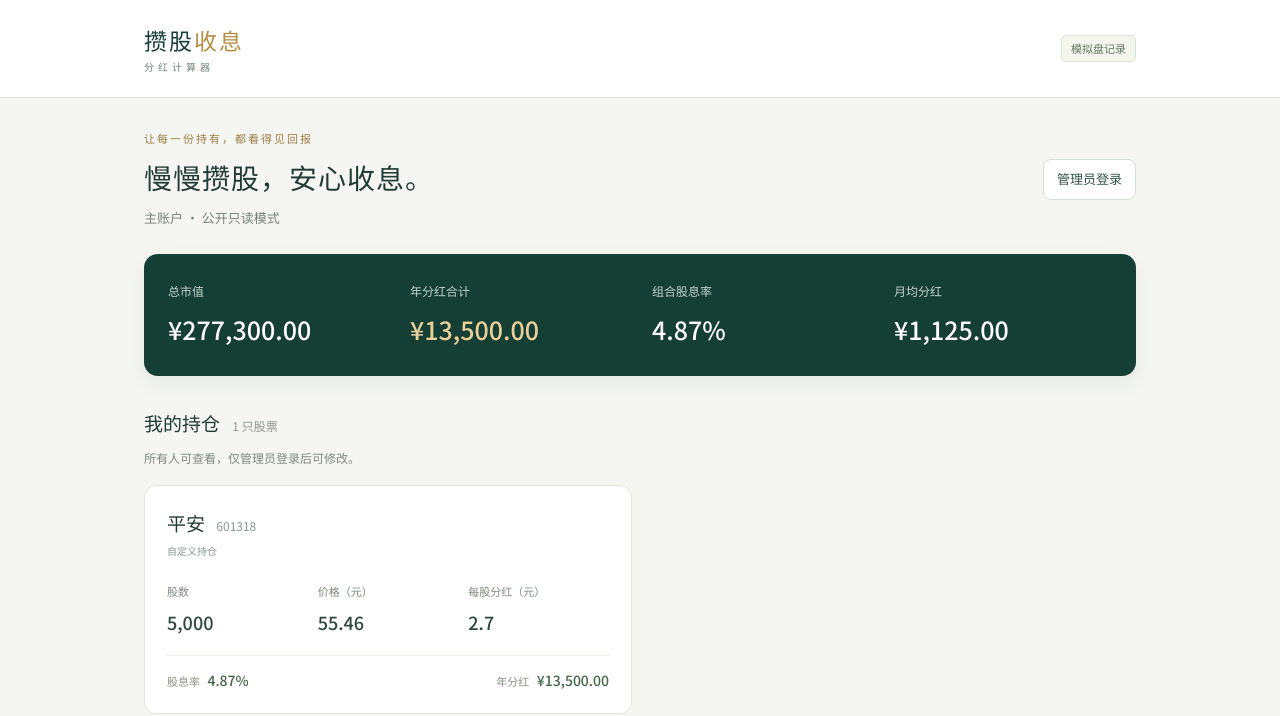
登录邮件发送失败时显示错误并允许重试
Click the button "管理员登录" at (1090, 179), box x1=1043 y1=159 x2=1136 y2=200
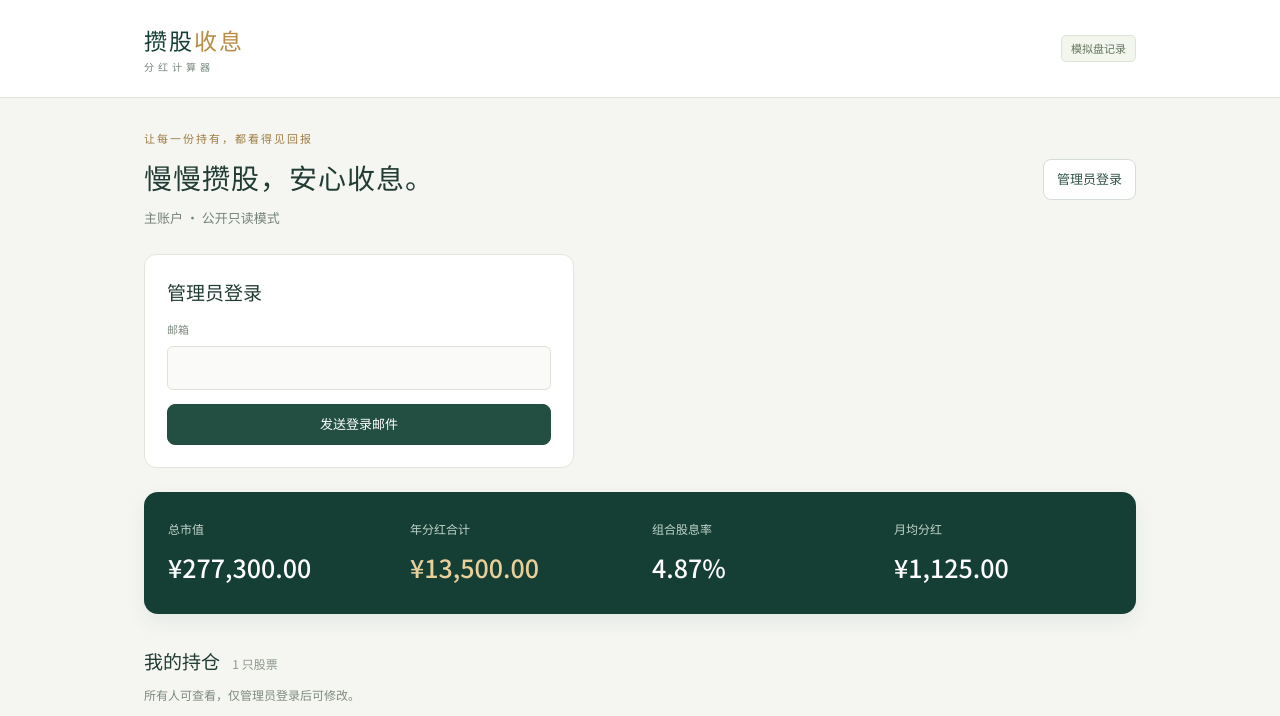
Type "owner@example.com" into the field labelled "邮箱" at (359, 368), box x1=167 y1=346 x2=551 y2=390
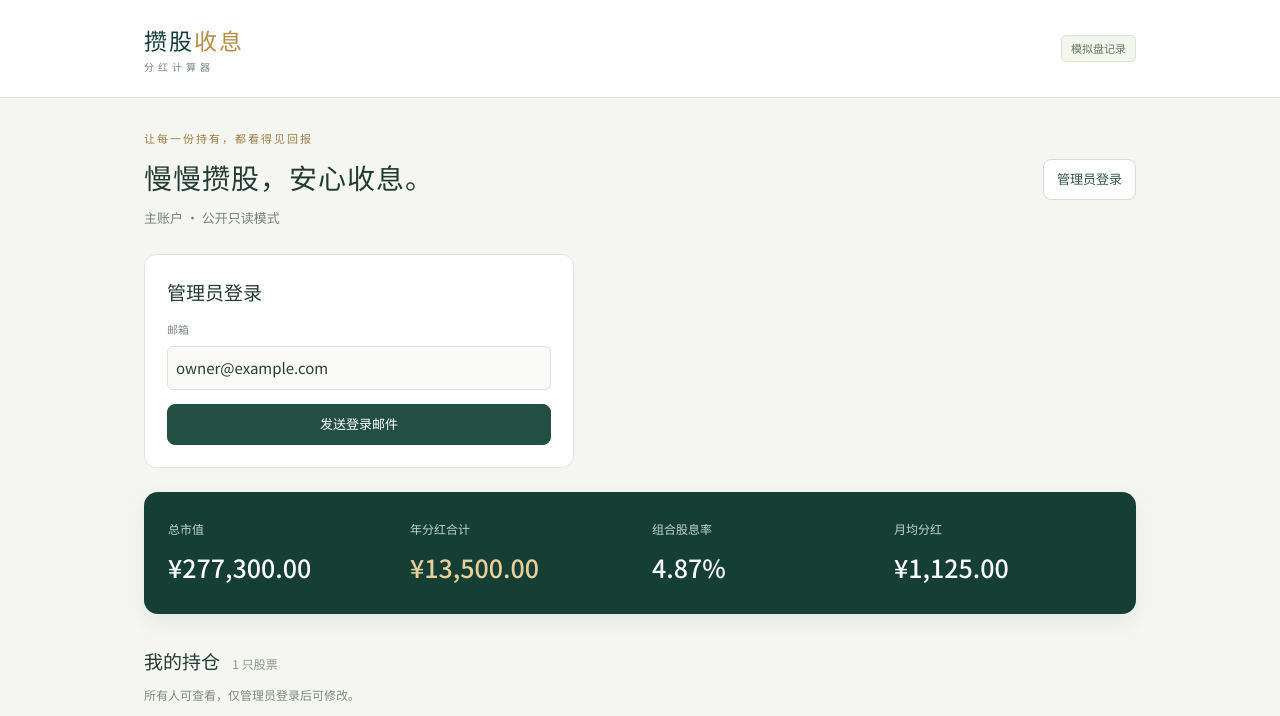
Click the button "发送登录邮件" at (359, 424), box x1=167 y1=404 x2=551 y2=445
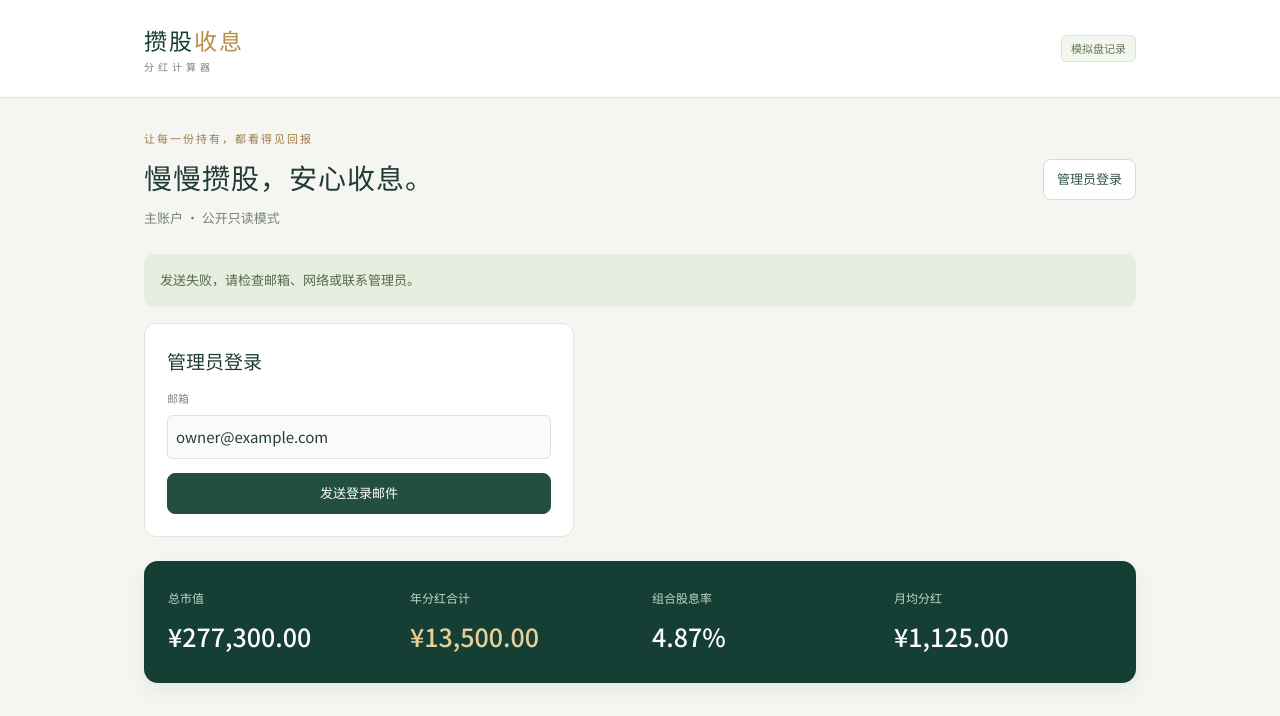
Result: the button "发送登录邮件" is shown at x1=167 y1=473 x2=551 y2=514
Result: the text "发送失败，请检查邮箱、网络或联系管理员。" is shown at x1=144 y1=254 x2=1136 y2=307
